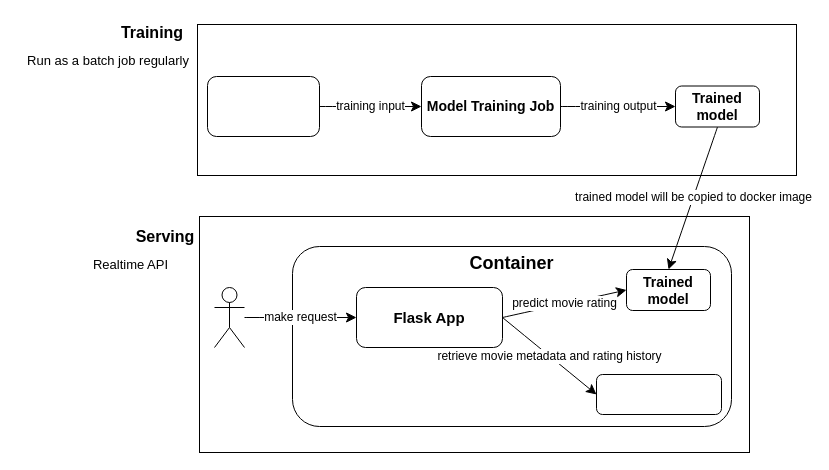
Some shapes in this 829 by 470 pixel diagram are drawn without their labels. Each missing label, with the centre of its shape:
"Client" belongs at pixel 229 317.
"SQLite database" belongs at pixel 659 394.
"Training data" belongs at pixel 263 106.
